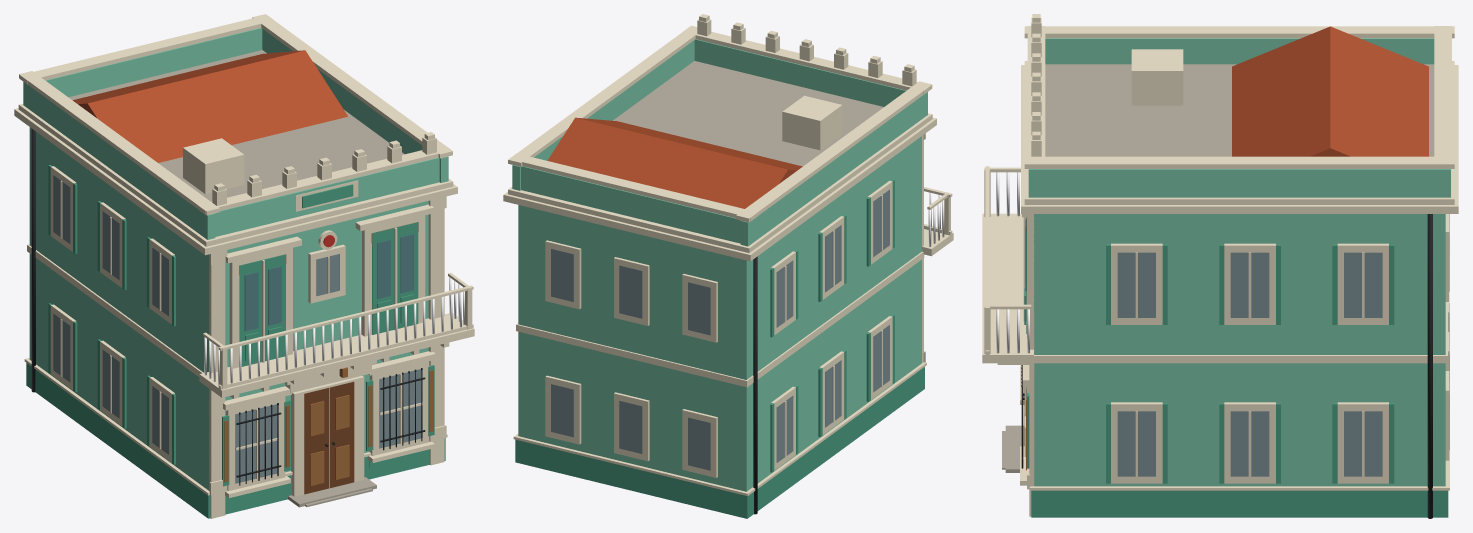
Rendered from casa-verde.glb.
3 renders of one model, left to right at view 1: azimuth 30°, elevation 25°; view 2: azimuth 150°, elevation 25°; view 3: azimuth 270°, elevation 25°, orthographic. The views are drawn at different scales.
Visible parts, largest first — view 1: Casa_Crema, Casa_Menta, Casa_MentaOscuro, Casa_Teja, Casa_Vidrio, Casa_Piedra, Casa_Hierro, Casa_Blanco, Casa_Madera, Casa_MaderaClara; view 2: Casa_Menta, Casa_Crema, Casa_MentaOscuro, Casa_Piedra, Casa_Vidrio, Casa_Teja, Casa_Hierro, Casa_Blanco; view 3: Casa_Menta, Casa_Crema, Casa_Teja, Casa_MentaOscuro, Casa_Piedra, Casa_Vidrio, Casa_Hierro, Casa_Blanco.
Boxes of the visible parts, left/top/right/bottom form: Casa_Crema: left=14, top=14, right=474, bottom=518; Casa_Menta: left=23, top=28, right=448, bottom=490; Casa_MentaOscuro: left=26, top=165, right=445, bottom=518; Casa_Teja: left=73, top=50, right=347, bottom=162; Casa_Vidrio: left=53, top=175, right=422, bottom=483; Casa_Piedra: left=69, top=50, right=404, bottom=507; Casa_Hierro: left=31, top=129, right=425, bottom=485; Casa_Blanco: left=204, top=277, right=464, bottom=384; Casa_Madera: left=304, top=381, right=354, bottom=494; Casa_MaderaClara: left=224, top=222, right=433, bottom=486; Casa_Menta: left=512, top=39, right=927, bottom=491; Casa_Crema: left=503, top=14, right=953, bottom=496; Casa_MentaOscuro: left=515, top=179, right=924, bottom=518; Casa_Piedra: left=613, top=61, right=883, bottom=166; Casa_Vidrio: left=551, top=189, right=889, bottom=470; Casa_Teja: left=547, top=117, right=802, bottom=208; Casa_Hierro: left=753, top=256, right=757, bottom=514; Casa_Blanco: left=928, top=192, right=944, bottom=246; Casa_Menta: left=1028, top=38, right=1450, bottom=486; Casa_Crema: left=982, top=14, right=1458, bottom=516; Casa_Teja: left=1232, top=26, right=1428, bottom=156; Casa_MentaOscuro: left=1024, top=217, right=1448, bottom=517; Casa_Piedra: left=1002, top=64, right=1434, bottom=472; Casa_Vidrio: left=1025, top=214, right=1449, bottom=476; Casa_Hierro: left=1021, top=214, right=1432, bottom=518; Casa_Blanco: left=996, top=172, right=1029, bottom=353.
Bounding box in the file's own units: 6.5 × 8.07 × 9.25.
